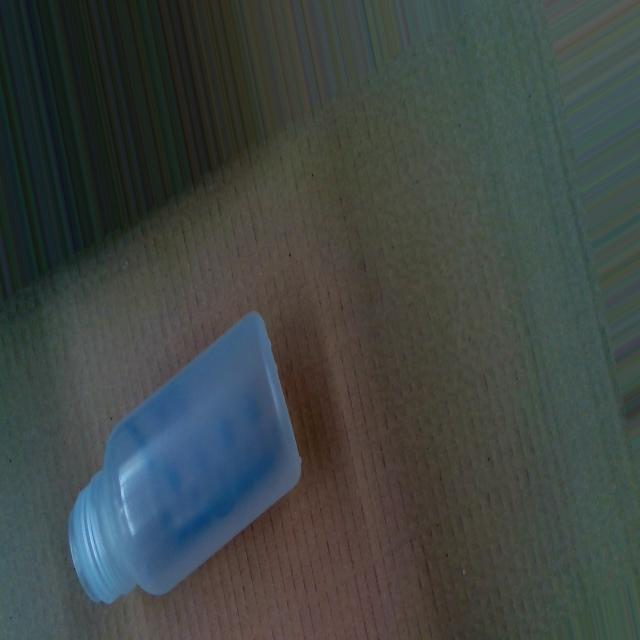bottle: (64, 301, 305, 618)
